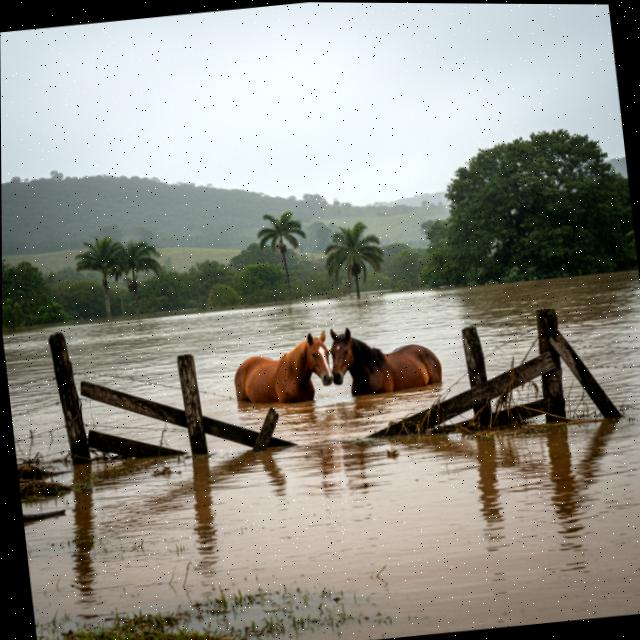horse: (323, 313, 452, 411), (225, 324, 336, 415)
